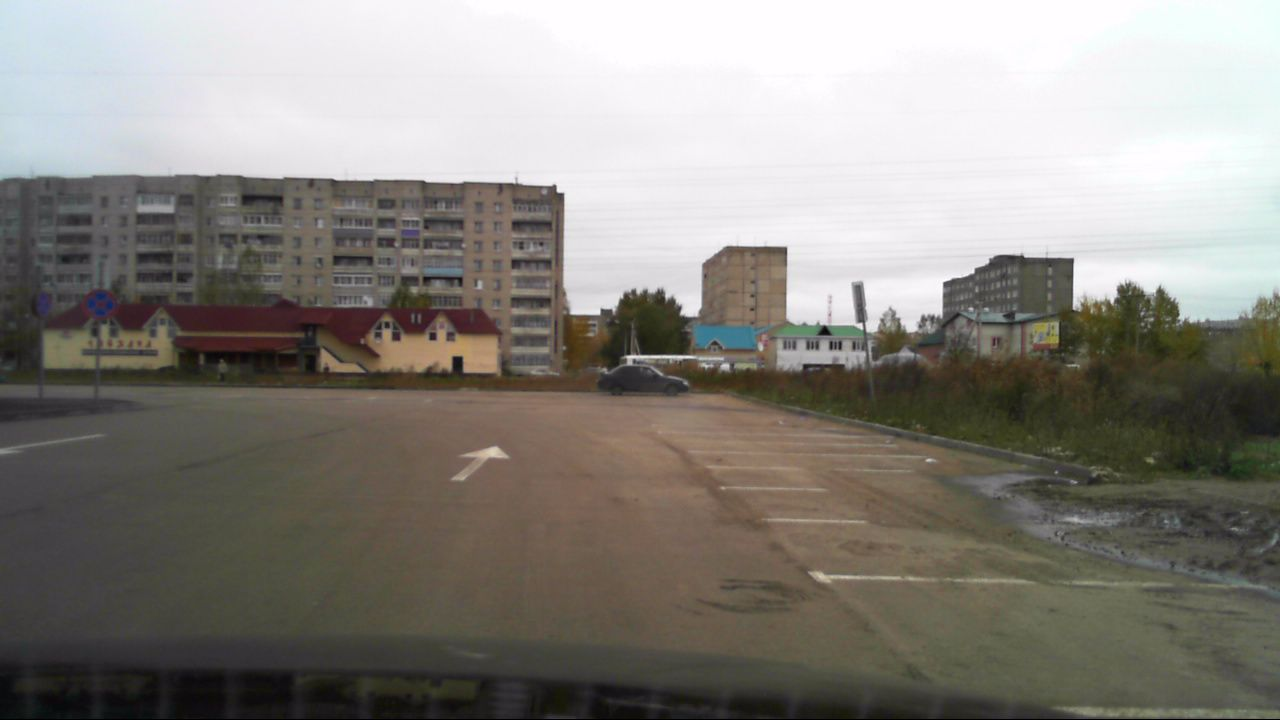No Parking: (83, 287, 118, 321)
